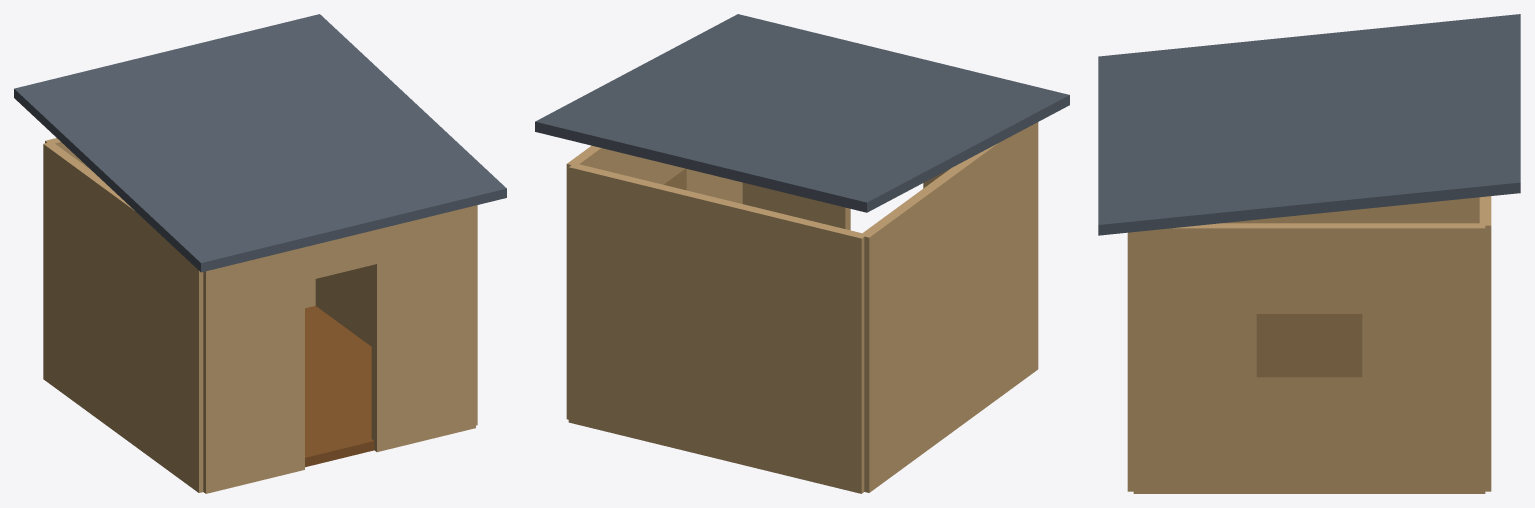
Rendered from field_shack.glb.
3 renders of one model, left to right at view 1: azimuth 30°, elevation 25°; view 2: azimuth 150°, elevation 25°; view 3: azimuth 270°, elevation 25°, orthographic. The views are drawn at different scales.
Visible parts, largest first — view 1: field_shack; view 2: field_shack; view 3: field_shack.
Boxes of the visible parts, x1=… form: field_shack: x1=14, y1=14, x2=506, y2=493; field_shack: x1=535, y1=14, x2=1069, y2=493; field_shack: x1=1098, y1=14, x2=1520, y2=493.
Bounding box in the file's own units: 3.4 × 3 × 3.6.
